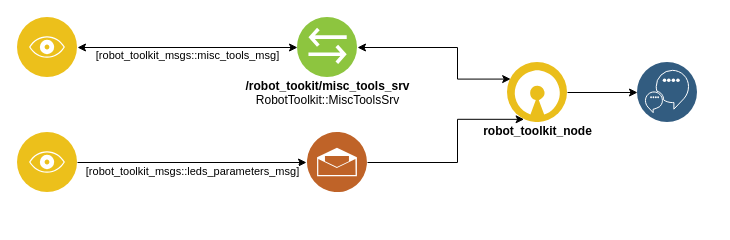
This 730x240 diagram has some shape labels left out. The shapes that lost their labels are listed below. From the top down, each one's centre as x and y in pixels, then its label:
At pixel 667 92: "LedsSubscriber".
At pixel 337 162: "/leds LedsSubscriber".
